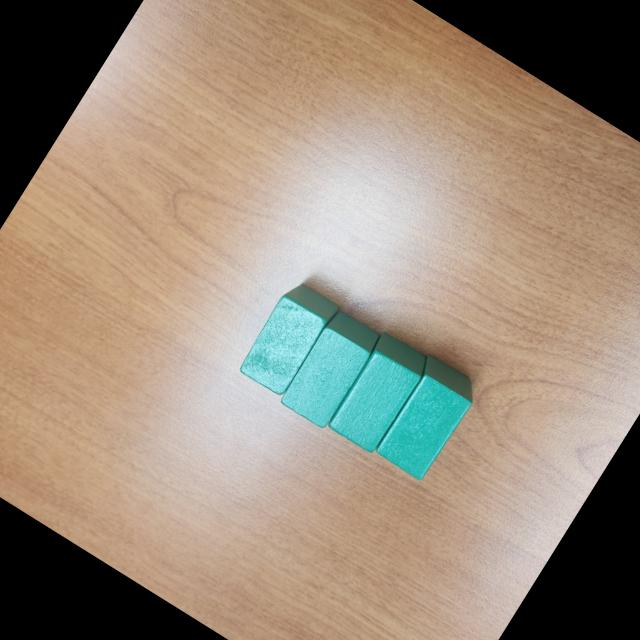green: (366, 352, 482, 484), (323, 327, 434, 457), (232, 276, 340, 402), (276, 307, 382, 431)
